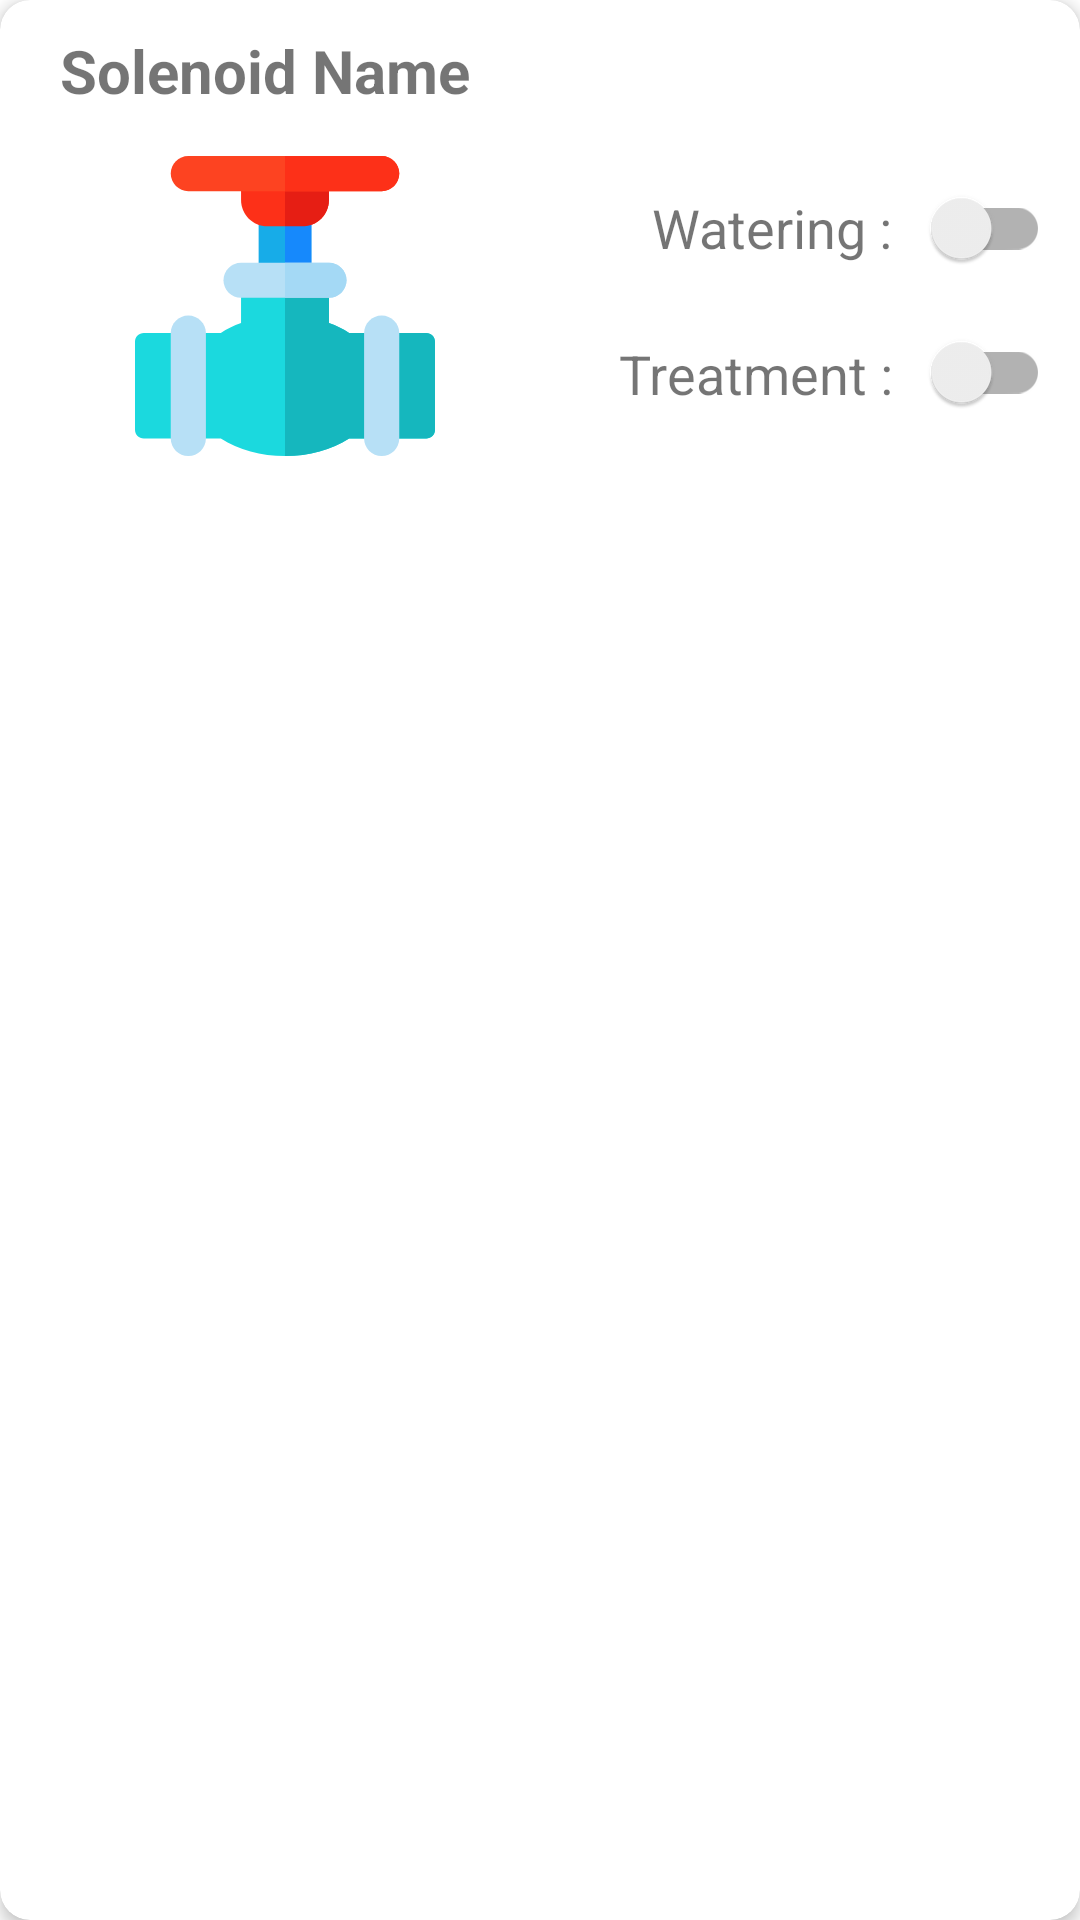

Where to tap for icons on this 1080w x 1920h app screen, as [x,y]:
valve: [285,306]
